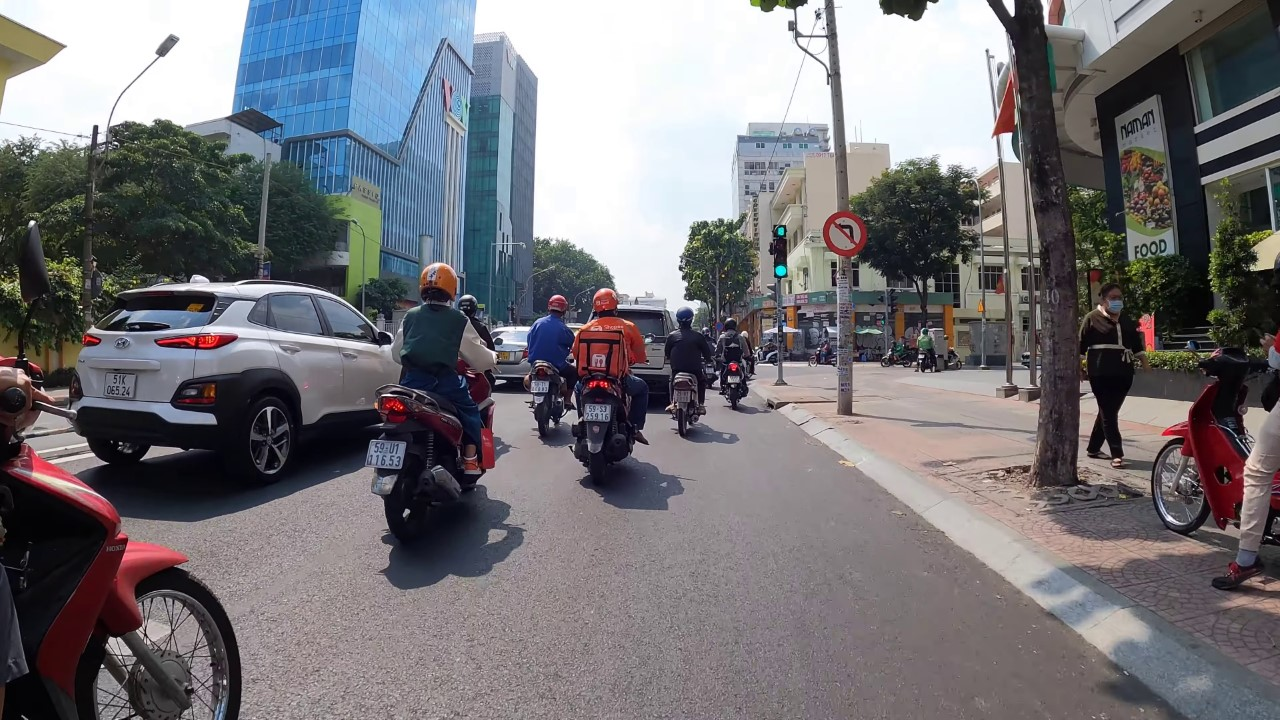cam_re_trai: (818, 207, 868, 257)
